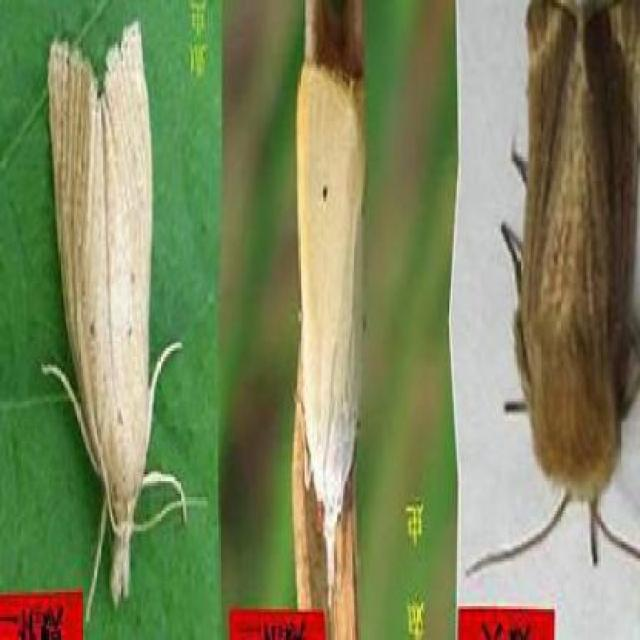stem-borer: (463, 0, 640, 586), (37, 13, 210, 608), (294, 60, 368, 602)
